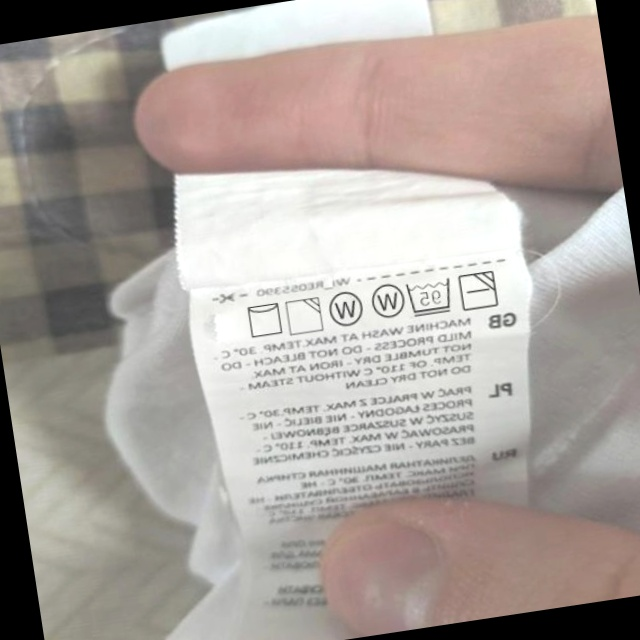95C: (403, 274, 456, 319)
dry_flat_in_shade: (456, 266, 501, 314)
line_dry: (242, 298, 286, 341)
shade_dry: (283, 294, 326, 338)
wet_clean: (366, 278, 407, 322), (325, 288, 366, 332)
